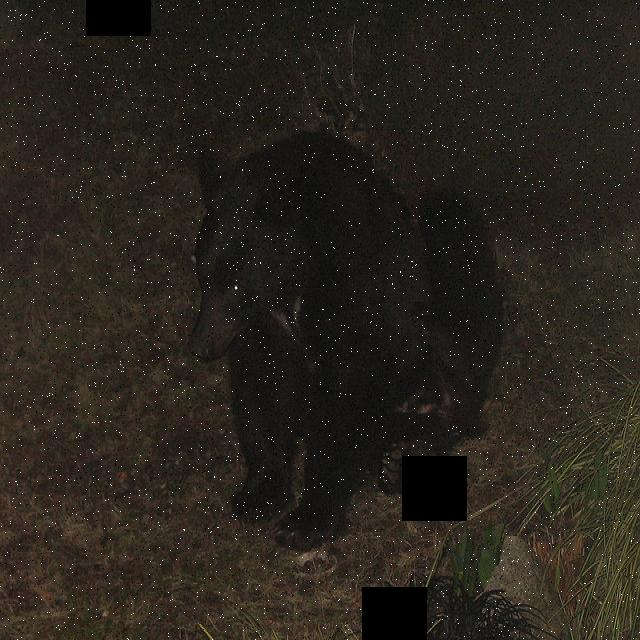Bear: (187, 127, 495, 539)
